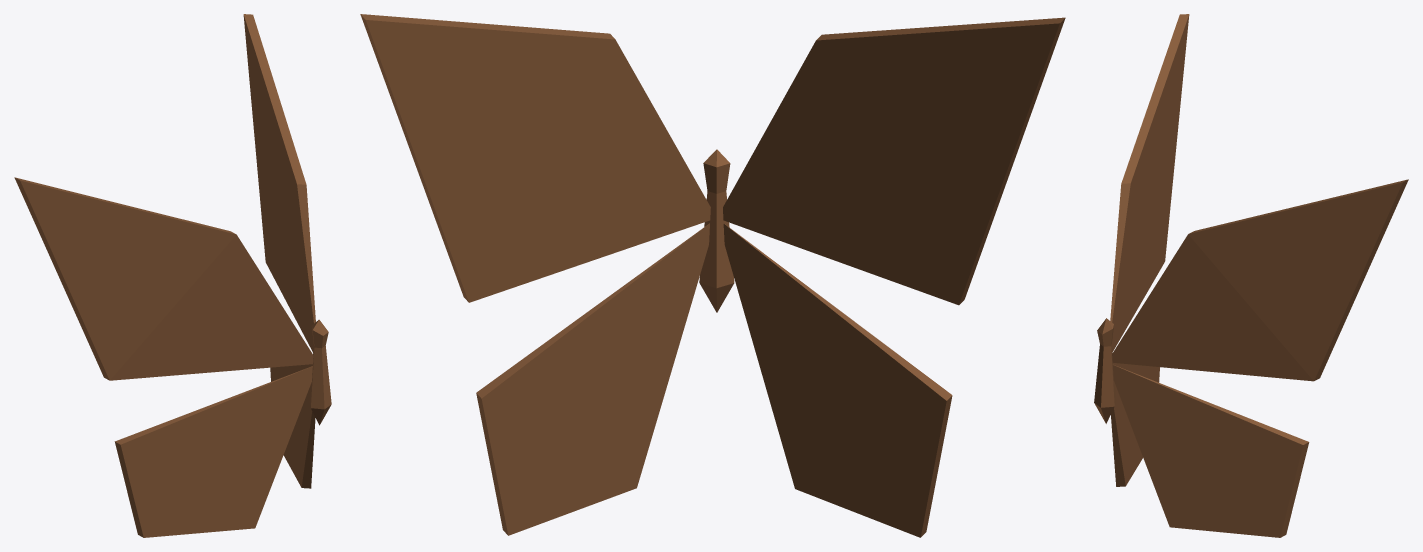
The model's file is butterfly.fbx.
3 renders of one model, left to right at view 1: azimuth 30°, elevation 25°; view 2: azimuth 150°, elevation 25°; view 3: azimuth 270°, elevation 25°, orthographic. The views are drawn at different scales.
Parts seen in each view (by area): view 1: butterfly; view 2: butterfly; view 3: butterfly.
Boxes of the visible parts, <box> form: butterfly: <box>14,14,331,537</box>; butterfly: <box>360,14,1065,537</box>; butterfly: <box>1094,14,1408,537</box>.
Size of the model in its own units: 0.2599 by 0.2688 by 0.2053.
